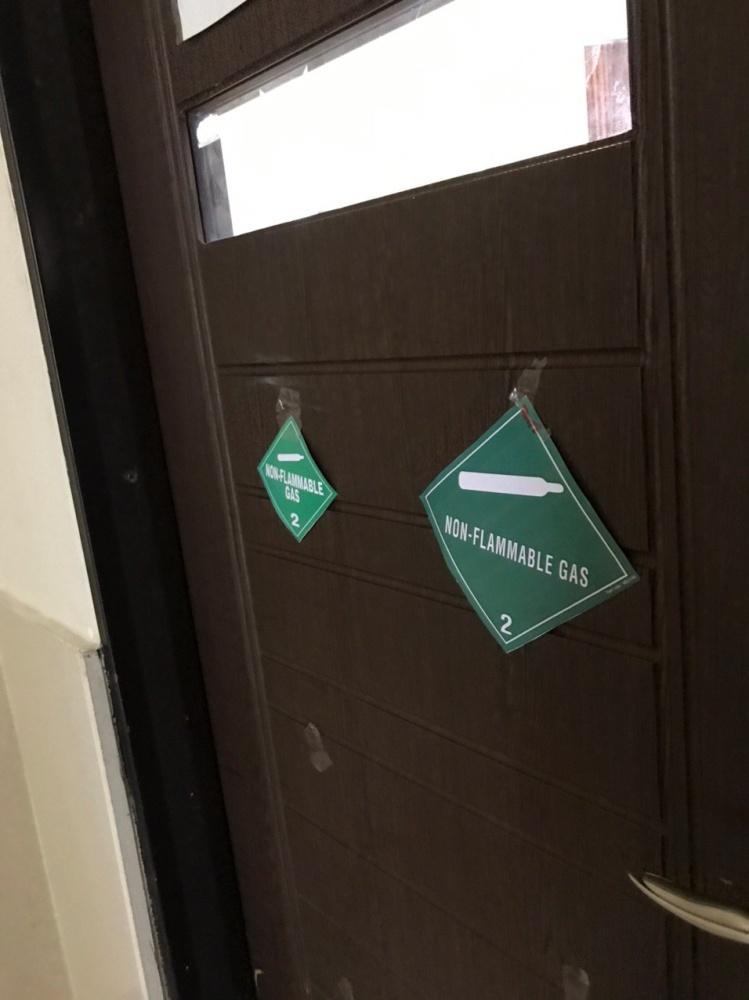non-flammable-gas: (425, 393, 634, 651), (254, 418, 337, 549)
